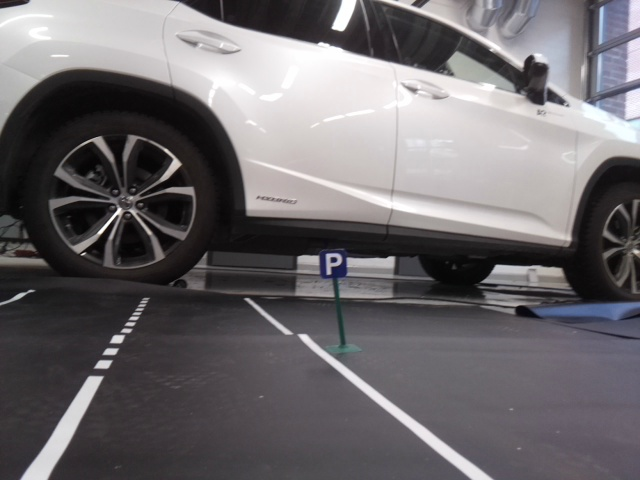Parking: (319, 249, 346, 276)
